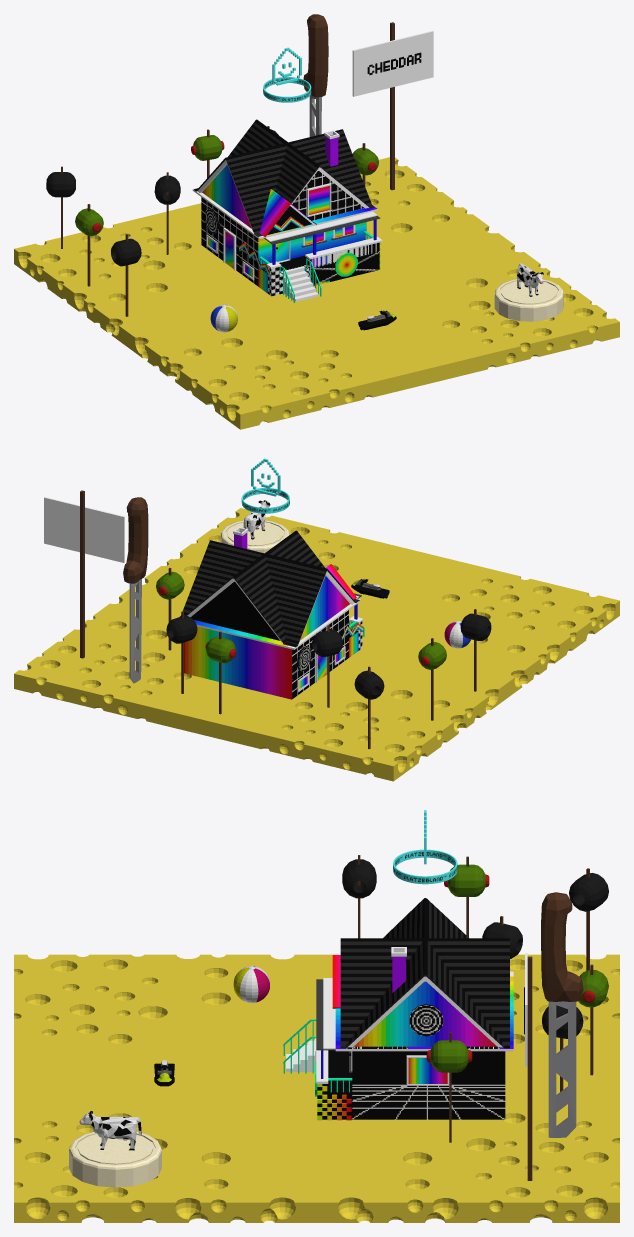
3 views of the same model, one above another, from view 1: azimuth 30°, elevation 25°; view 2: azimuth 150°, elevation 25°; view 3: azimuth 270°, elevation 25° (orthographic). The views are drawn at different scales.
Parts seen in each view (by area): view 1: Cube.022, Cube.1320, Cube.023, Cylinder.016, Cube.024, TYPE_PREMIUM, Sphere.017, Sphere.018, Sphere.016, Sphere.020, Sphere.022, OBJRANDOM_BEACHBALL (+1 smaller); view 2: Cube.022, Cube.1320, Cube.023, Cube.024, Cylinder.016, TYPE_PREMIUM, Sphere.021, Sphere.017, Sphere.020, Sphere.022, Sphere.016, Sphere.018 (+4 smaller); view 3: Cube.022, Cube.1320, Cube.024, Cylinder.016, Cube.023, Sphere.019, Sphere.016, ANIMAL_VACA, TYPE_PREMIUM, Sphere.017, Sphere.018, Sphere.022 (+3 smaller).
Boxes of the visible parts, box(x1,y1,x2,y2) form: Cube.022: box(14, 157, 619, 429); Cube.1320: box(192, 119, 382, 302); Cube.023: box(352, 22, 433, 190); Cylinder.016: box(494, 279, 563, 321); Cube.024: box(303, 14, 328, 136); TYPE_PREMIUM: box(263, 47, 311, 102); Sphere.017: box(111, 234, 141, 316); Sphere.018: box(75, 204, 103, 286); Sphere.016: box(46, 166, 75, 248); Sphere.020: box(154, 172, 180, 254); Sphere.022: box(191, 129, 224, 177); OBJRANDOM_BEACHBALL: box(210, 304, 237, 332); Cube.022: box(14, 508, 619, 781); Cube.1320: box(180, 527, 364, 699); Cube.023: box(44, 490, 124, 658); Cube.024: box(123, 497, 148, 683); Cylinder.016: box(220, 520, 289, 553); TYPE_PREMIUM: box(241, 458, 289, 513); Sphere.021: box(166, 611, 197, 693); Sphere.017: box(460, 609, 491, 691); Sphere.020: box(312, 625, 342, 707); Sphere.022: box(205, 631, 236, 714); Sphere.016: box(354, 666, 384, 749); Sphere.018: box(418, 638, 446, 720); Cube.022: box(14, 954, 619, 1222); Cube.1320: box(283, 898, 513, 1120); Cube.024: box(541, 892, 583, 1137); Cylinder.016: box(69, 1131, 161, 1187); Cube.023: box(524, 953, 532, 1180); Sphere.019: box(426, 1032, 472, 1142); Sphere.016: box(569, 868, 608, 970); ANIMAL_VACA: box(79, 1111, 141, 1150); TYPE_PREMIUM: box(393, 810, 457, 884); Sphere.017: box(342, 855, 376, 938); Sphere.018: box(444, 856, 489, 937); Sphere.022: box(578, 964, 608, 1075).
Size of the model in its own units: 3917 by 2376 by 4000.
30 materials, 6 textured.
